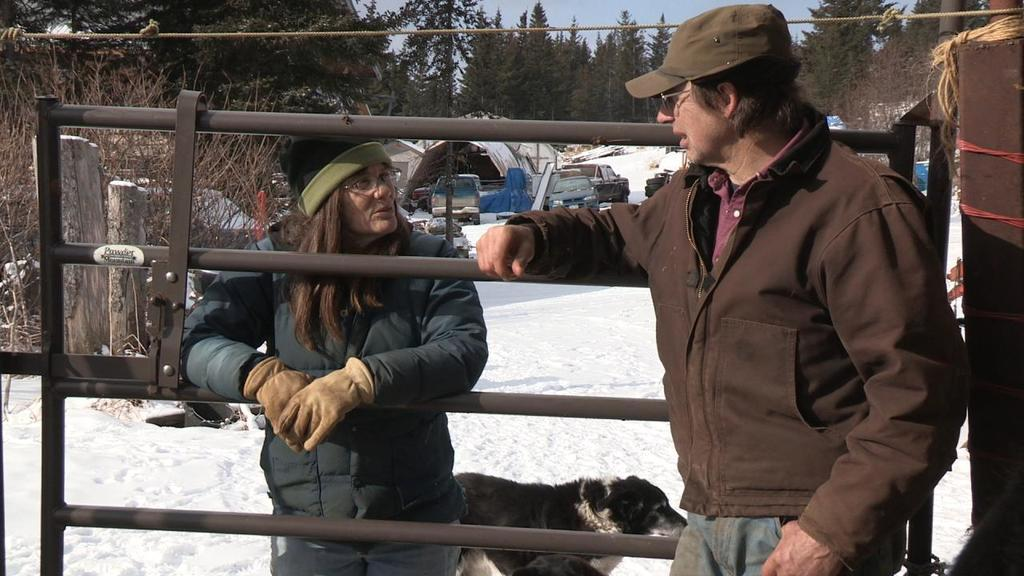Hat: (626, 2, 792, 100)
